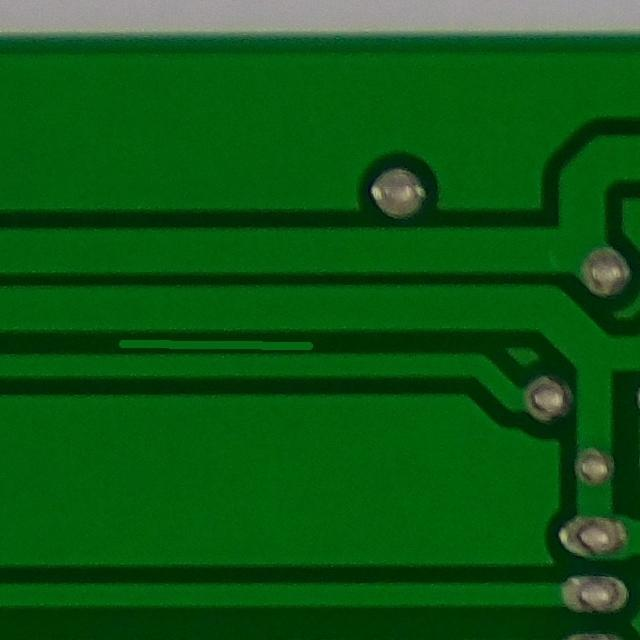spurious_copper: (101, 315, 321, 368)
